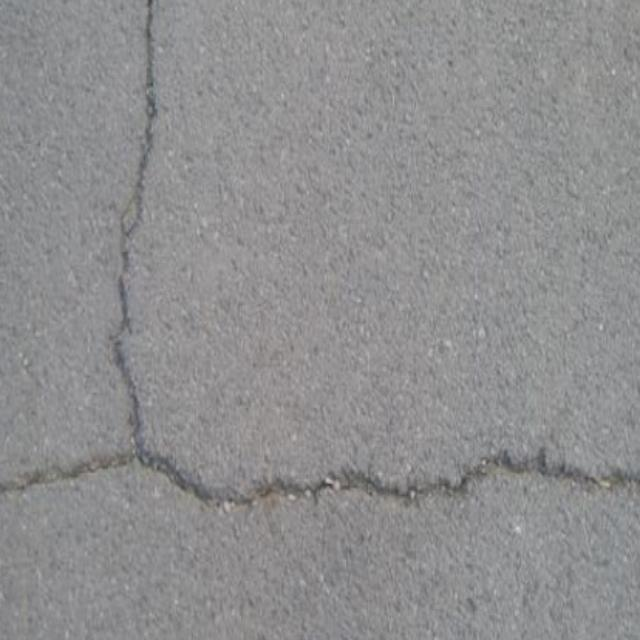Longitudinal: (224, 224, 416, 416)
Transverse: (224, 224, 416, 416)
